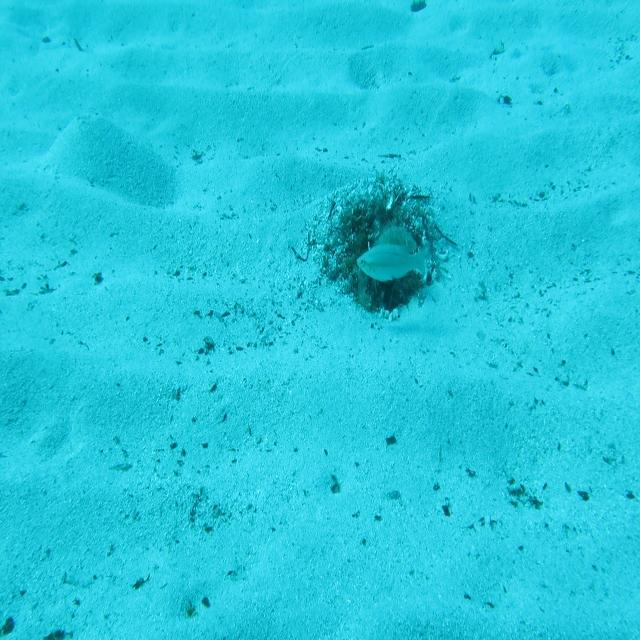DAN_CIRC: (368, 217, 419, 294)
female: (357, 242, 429, 284)
nest: (320, 176, 454, 319)
